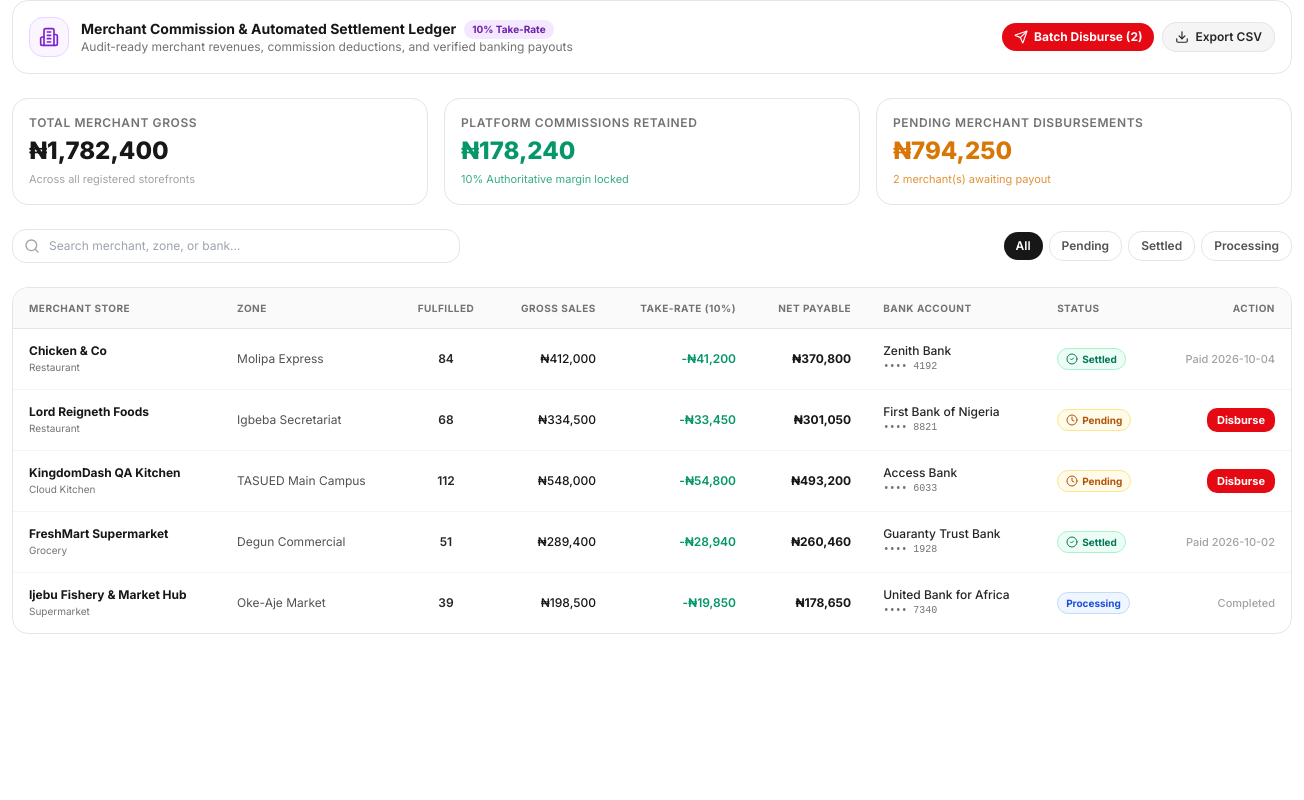
Phase 3: Executive BI, Merchant Commission Ledger & Fleet Heatmap Suite › MerchantCommissionLedger Component › filters merchants by search query
Type "Lord Reigneth" into the field with placeholder "Search merchant, zone, or bank..." at (236,246), box [12,228,460,262]
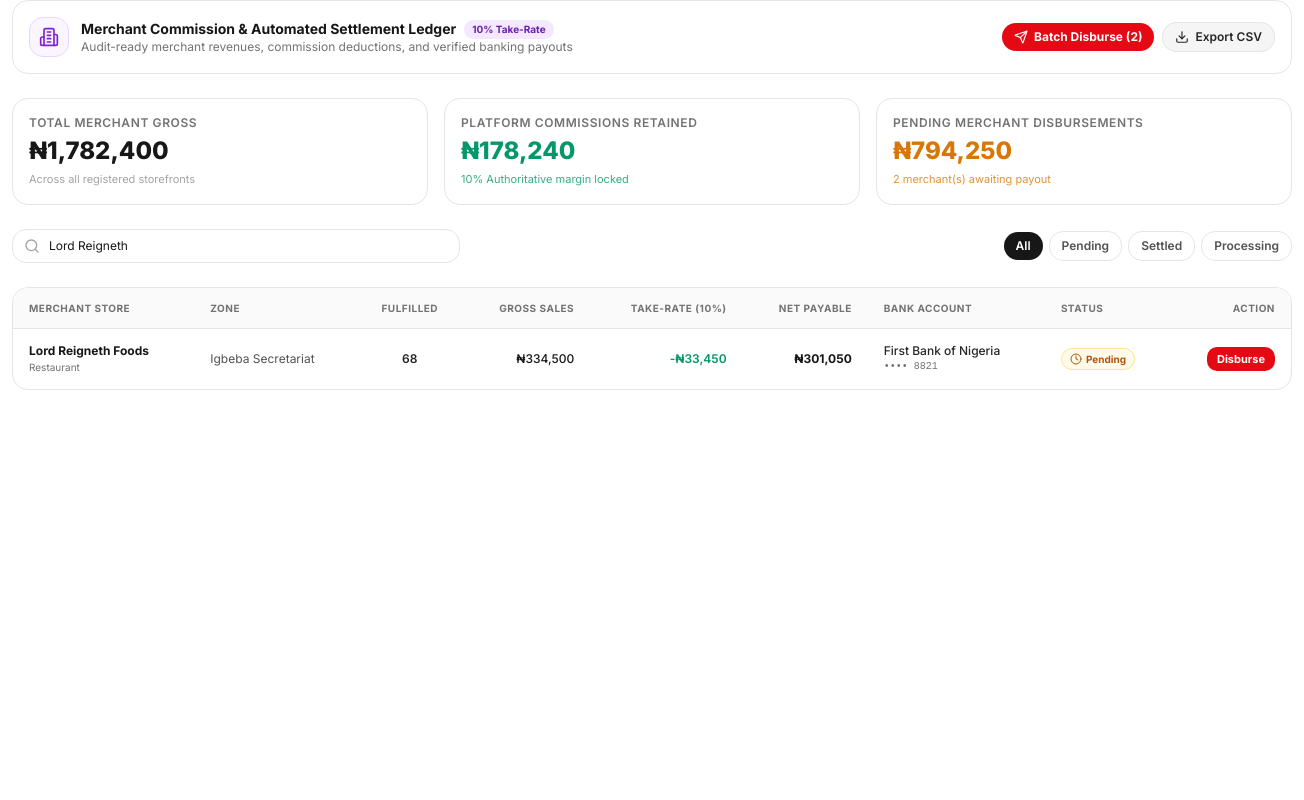
Expected: the text "Lord Reigneth Foods" is shown, [29,342,149,358]
Result: the text "Chicken & Co" is gone
